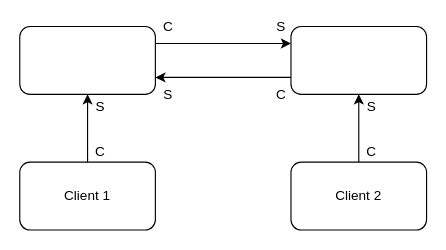
The diagram is 446 pixels wide and 250 high, and some of its shapes have lost their labels. Each missing label, with the centre of its shape:
"Server 1" goes at (87,59).
"Server 2" goes at (358,59).
